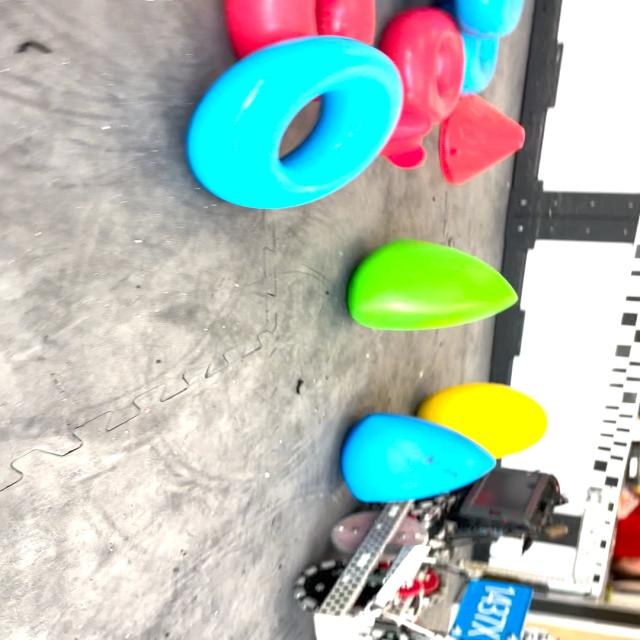Blue-Ring: (187, 35, 402, 209), (456, 0, 524, 39), (462, 34, 500, 93)
Red-Ring: (380, 8, 464, 123), (224, 0, 376, 59)
